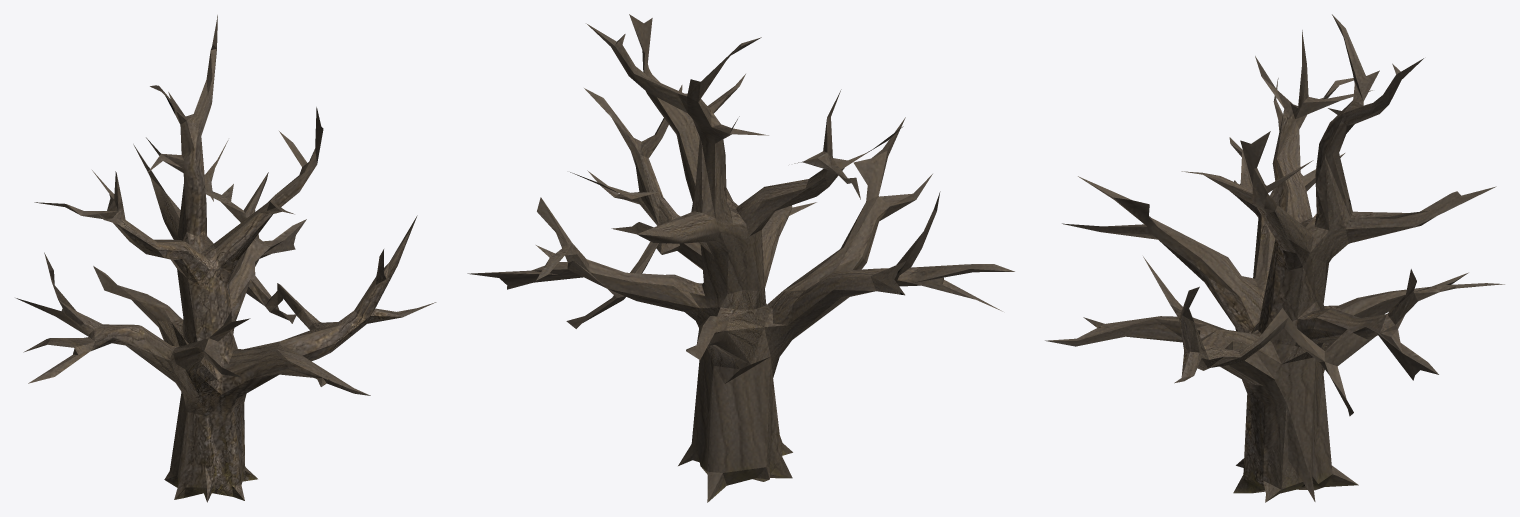
The picture shows the model from 3 angles, left to right: view 1: azimuth 30°, elevation 25°; view 2: azimuth 150°, elevation 25°; view 3: azimuth 270°, elevation 25°; orthographic projection. The views are drawn at different scales.
Visible parts, largest first — view 1: output_unwrapped; view 2: output_unwrapped; view 3: output_unwrapped.
Boxes of the visible parts, x1,y1,x2,y2 form: output_unwrapped: (16,15,436,502); output_unwrapped: (467,14,1014,502); output_unwrapped: (1045,14,1504,502).
Size of the model in its own units: 1.96 by 2 by 1.77.
1 material, 1 textured.
